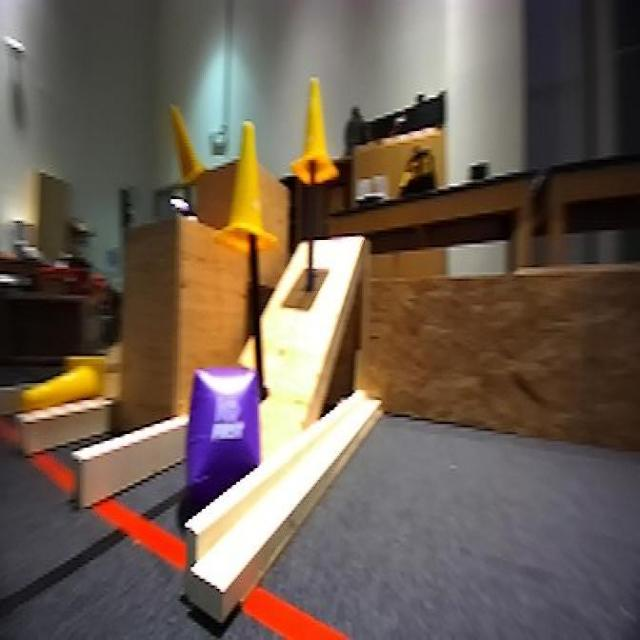frc_cone: (222, 128, 278, 252), (20, 350, 108, 420), (292, 75, 338, 185), (173, 102, 204, 191)
frc_cube: (180, 360, 262, 510)
